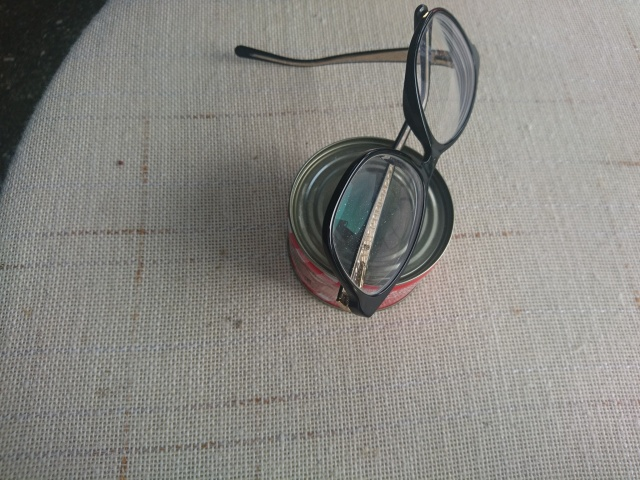Podravka Luncheon Meat 150g: (282, 133, 458, 317)
